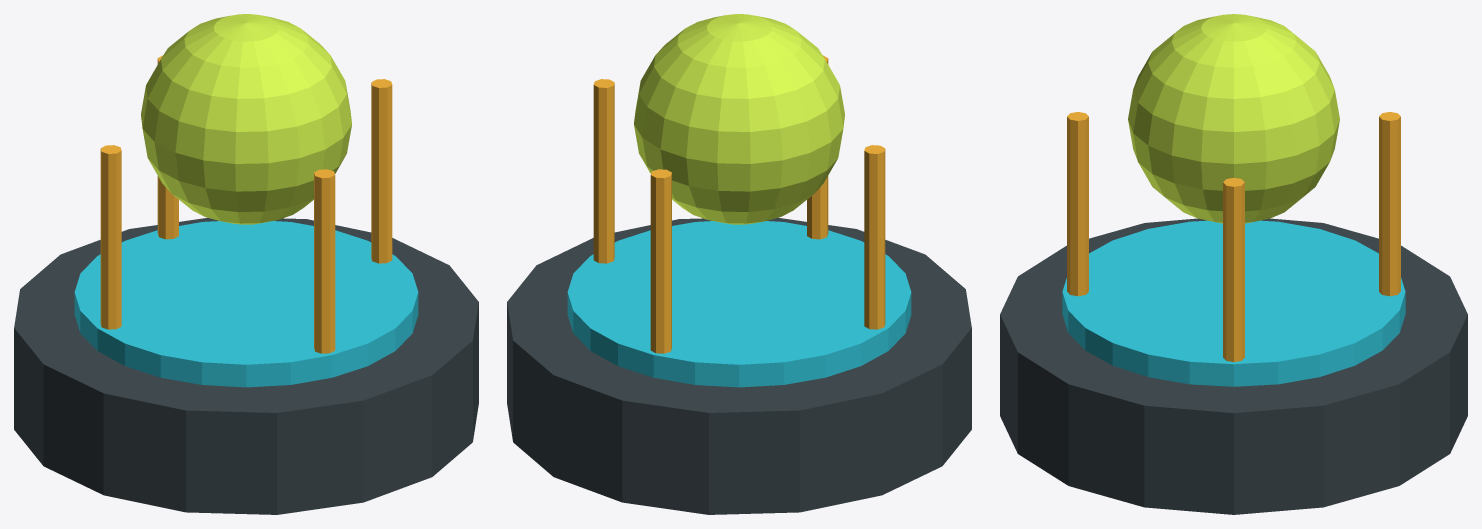
Rendered from fetch_charge_pedestal.glb.
3 views of the same model, side by side, from view 1: azimuth 30°, elevation 25°; view 2: azimuth 150°, elevation 25°; view 3: azimuth 270°, elevation 25° (orthographic).
Visible parts, largest first — view 1: Base, Glow_Ring, Fetch_Charge, Guard_180, Guard_0, Guard_270, Guard_90; view 2: Base, Glow_Ring, Fetch_Charge, Guard_180, Guard_0, Guard_90, Guard_270; view 3: Base, Glow_Ring, Fetch_Charge, Guard_90, Guard_270, Guard_0.
Boxes of the visible parts, x1=… form: Base: x1=14, y1=217, x2=478, y2=514; Glow_Ring: x1=74, y1=221, x2=418, y2=387; Fetch_Charge: x1=141, y1=14, x2=351, y2=224; Guard_180: x1=100, y1=145, x2=121, y2=329; Guard_0: x1=371, y1=79, x2=392, y2=263; Guard_270: x1=314, y1=169, x2=335, y2=353; Guard_90: x1=157, y1=55, x2=178, y2=239; Base: x1=507, y1=217, x2=971, y2=514; Glow_Ring: x1=567, y1=221, x2=911, y2=387; Fetch_Charge: x1=634, y1=14, x2=844, y2=224; Guard_180: x1=864, y1=145, x2=885, y2=329; Guard_0: x1=593, y1=79, x2=614, y2=263; Guard_90: x1=650, y1=169, x2=671, y2=353; Guard_270: x1=807, y1=55, x2=828, y2=239; Base: x1=1000, y1=218, x2=1467, y2=514; Glow_Ring: x1=1062, y1=220, x2=1405, y2=386; Fetch_Charge: x1=1128, y1=14, x2=1339, y2=223; Guard_90: x1=1379, y1=112, x2=1400, y2=296; Guard_270: x1=1067, y1=112, x2=1088, y2=296; Guard_0: x1=1223, y1=178, x2=1244, y2=362.
Size of what is drawn, in the model's own units: 1.5 by 1.39 by 1.5.
